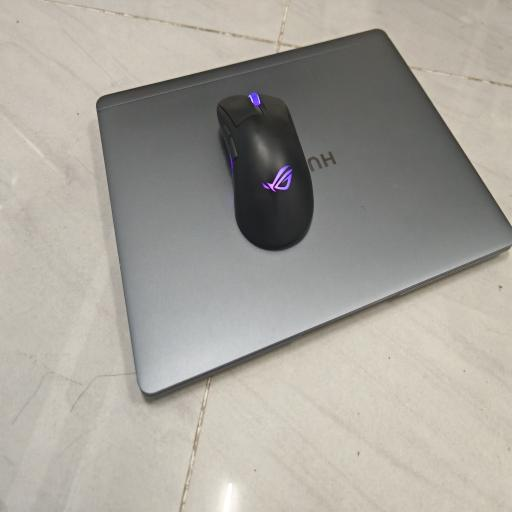laptop: (97, 30, 512, 395)
mouse: (217, 93, 313, 249)
